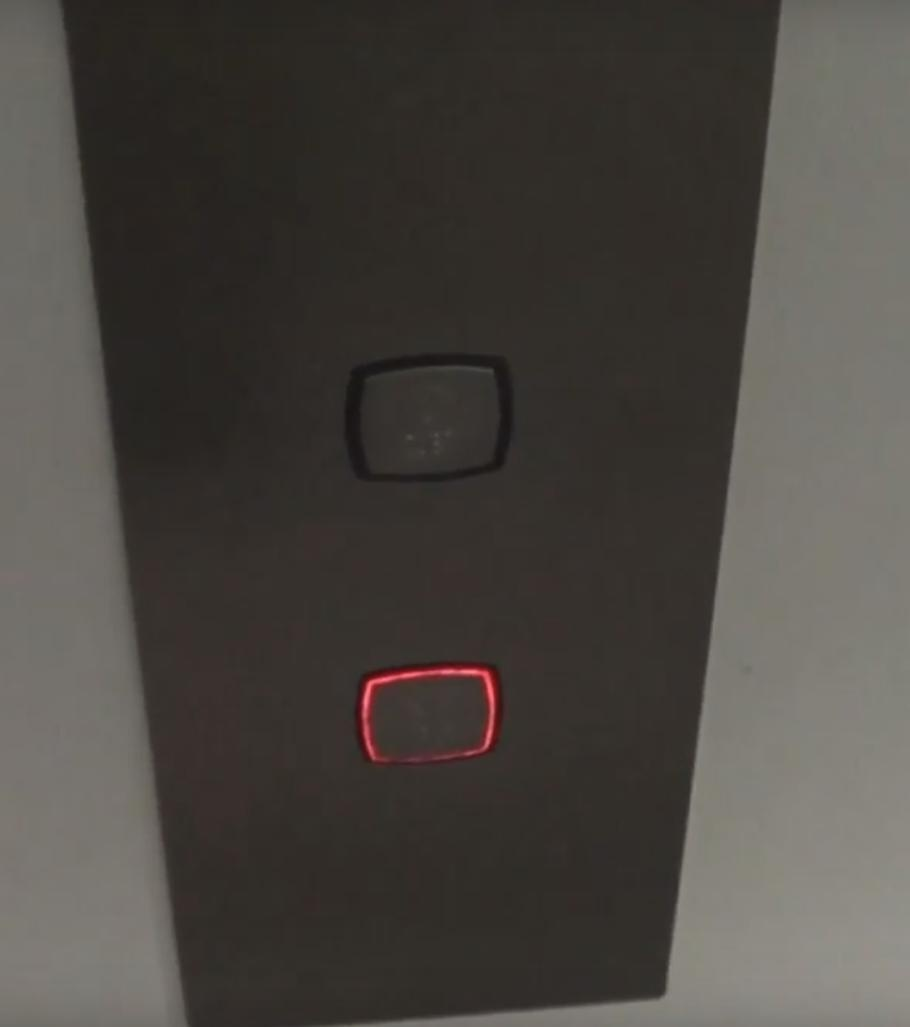blur: (343, 356, 512, 484), (355, 664, 504, 768)
